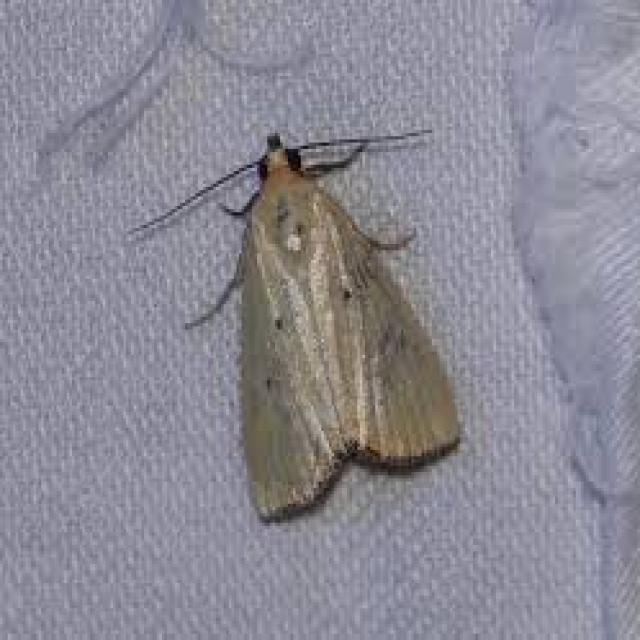yellow-stem-borer: (139, 81, 526, 525)
